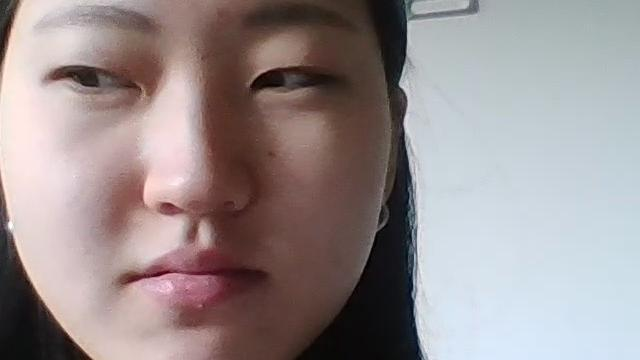eye: (68, 65, 98, 90), (257, 66, 284, 90)
iris: (68, 68, 142, 89), (252, 69, 320, 90)
